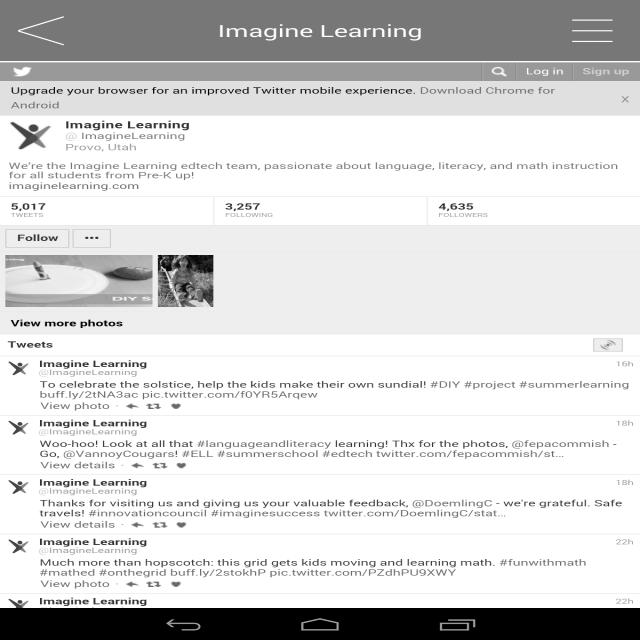Button: (17, 230, 59, 247), (593, 338, 624, 352), (84, 230, 100, 247), (621, 91, 630, 106)
ImageView: (0, 0, 96, 60), (554, 6, 630, 54), (0, 61, 640, 62)
TextView: (96, 0, 544, 61)
